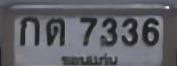3: (99, 16, 116, 45), (121, 17, 137, 45)
6: (141, 16, 158, 44)
7: (79, 16, 96, 45)
A01: (19, 16, 39, 45)
A21: (45, 17, 64, 45)
